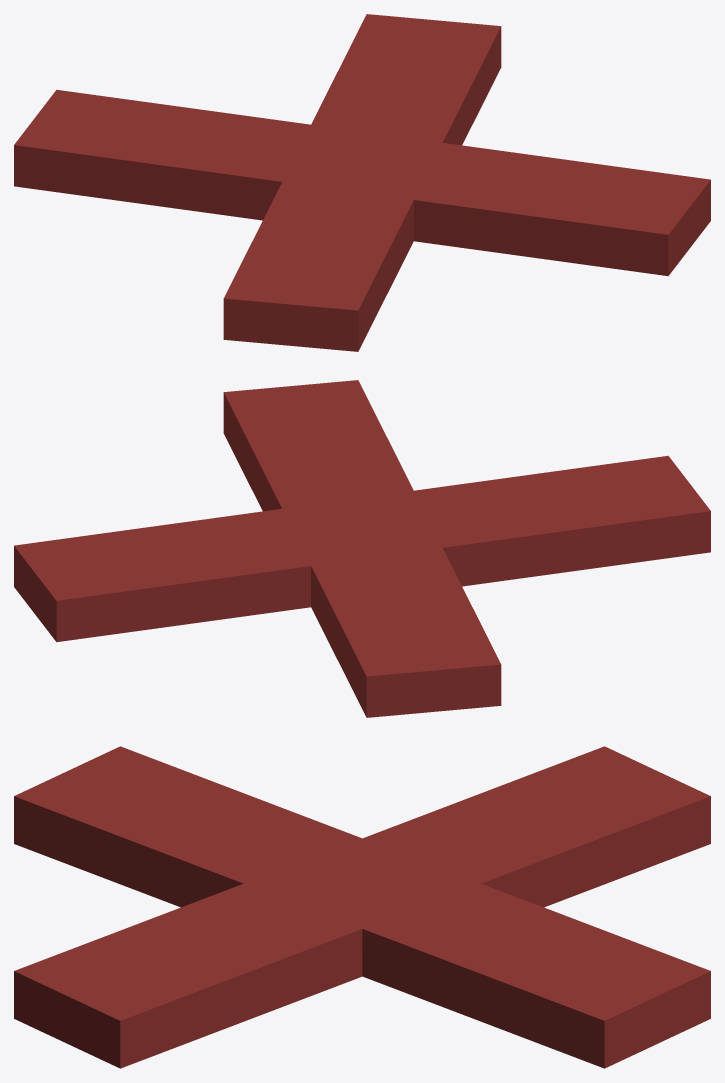
Rendered from cross.glb.
3 views of the same model, one above another, from view 1: azimuth 30°, elevation 25°; view 2: azimuth 150°, elevation 25°; view 3: azimuth 270°, elevation 25° (orthographic). The views are drawn at different scales.
Parts seen in each view (by area): view 1: Plane.001; view 2: Plane.001; view 3: Plane.001.
Boxes of the visible parts, x1,y1,x2,y2 form: Plane.001: (14, 14, 710, 351); Plane.001: (14, 380, 710, 717); Plane.001: (14, 746, 710, 1068).
Size of the model in its own units: 1.64 by 0.1325 by 1.75.
